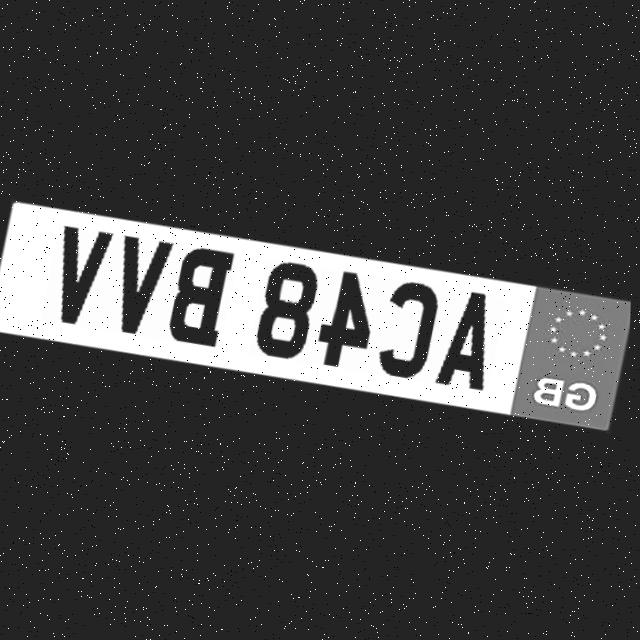license-plates: (0, 200, 631, 429)
